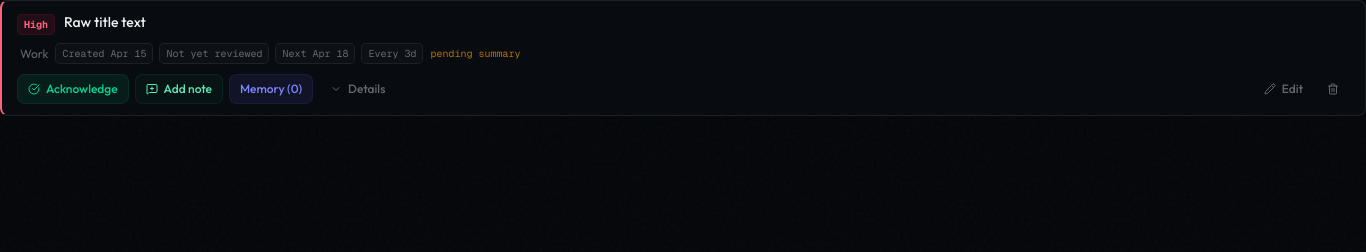
it: TriggerCard › collapses and hides full_content when Details is toggled a second time
The image size is (1366, 252).
Click the button "Details": (358, 89) [320,75,395,103]
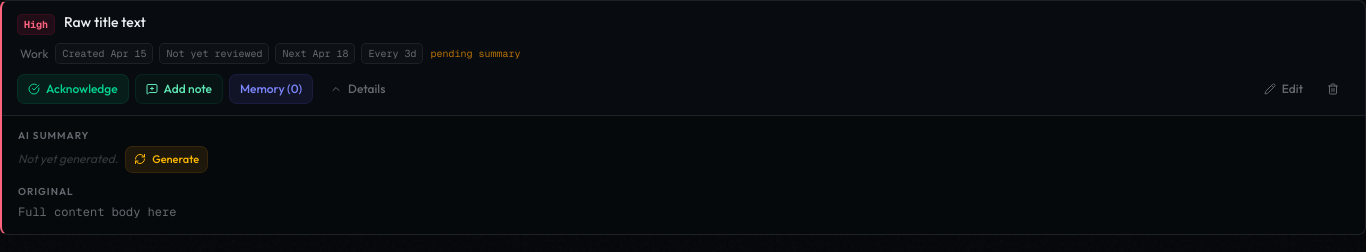
expect the text "Full content body here" is shown: met, box [18,204,176,220]
Click the button "Details": (358, 89) [320,75,395,103]
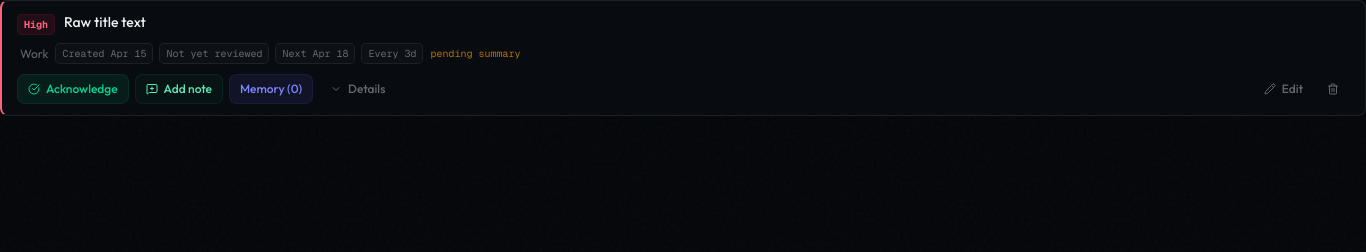
expect the text "Full content body here" is gone: met
